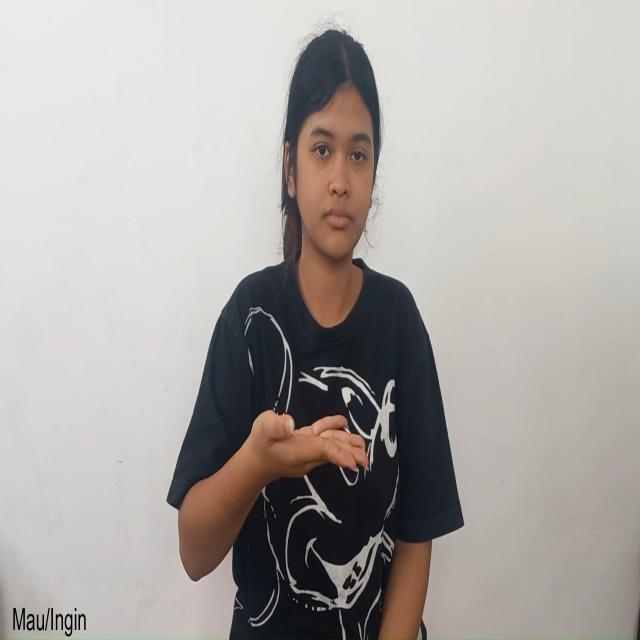Mau-Ingin -BISINDO-: (168, 408, 383, 588)
